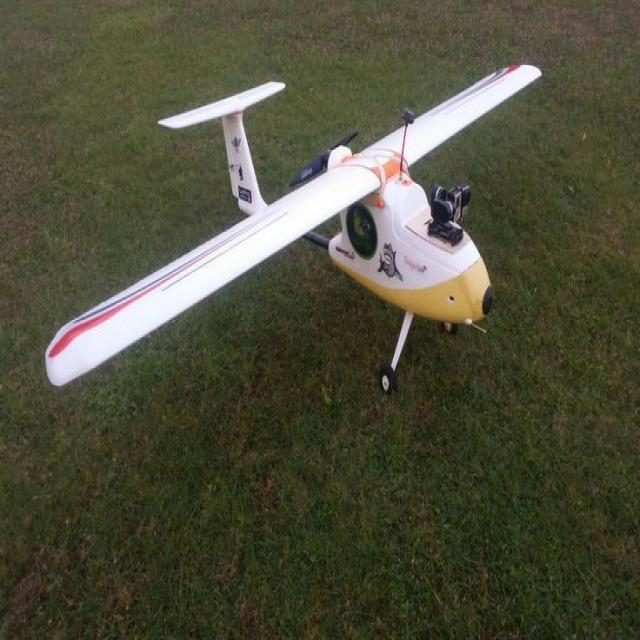iha: (45, 62, 543, 400)
